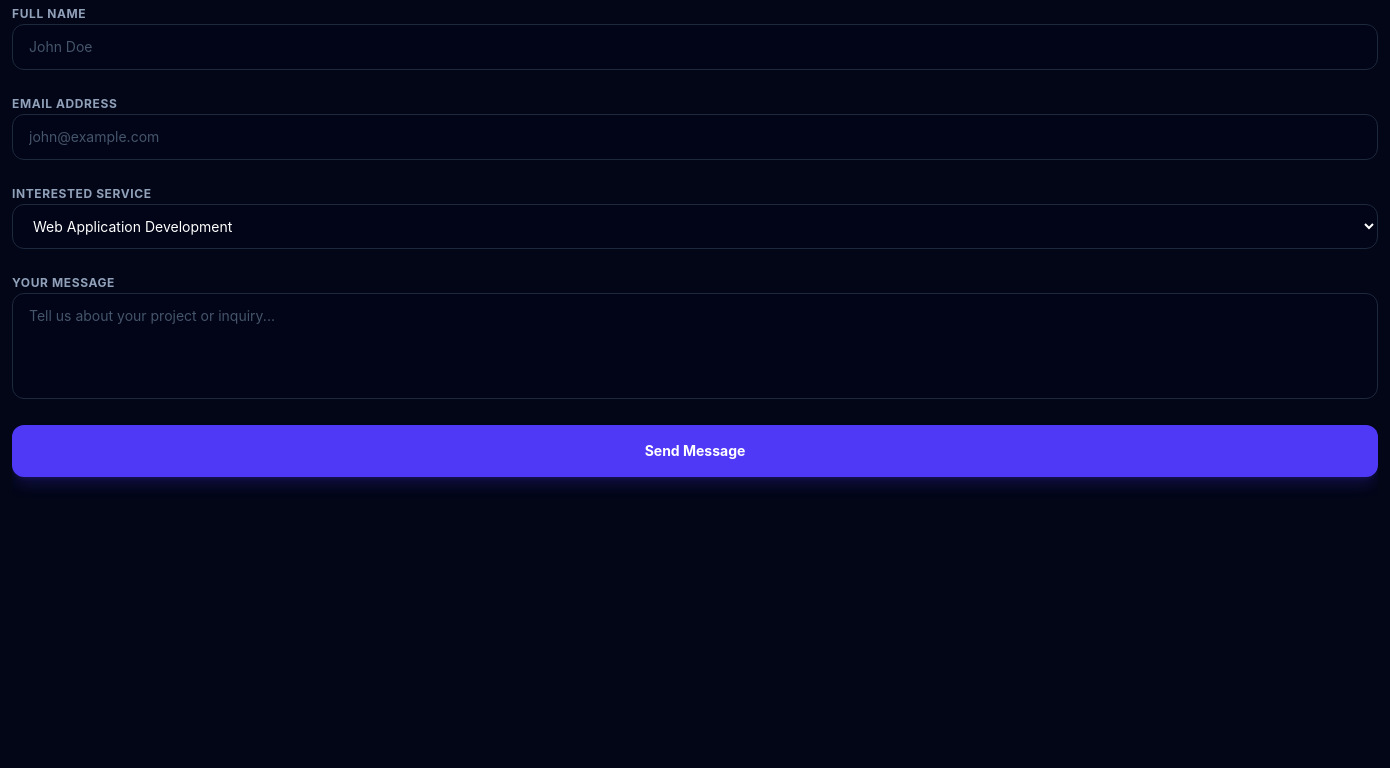
Test: ContactForm submits successfully with Web3Forms API
Type "Niduranga Jayarathna" into the field labelled "Full Name" at point(695, 47), box [12, 24, 1378, 70]
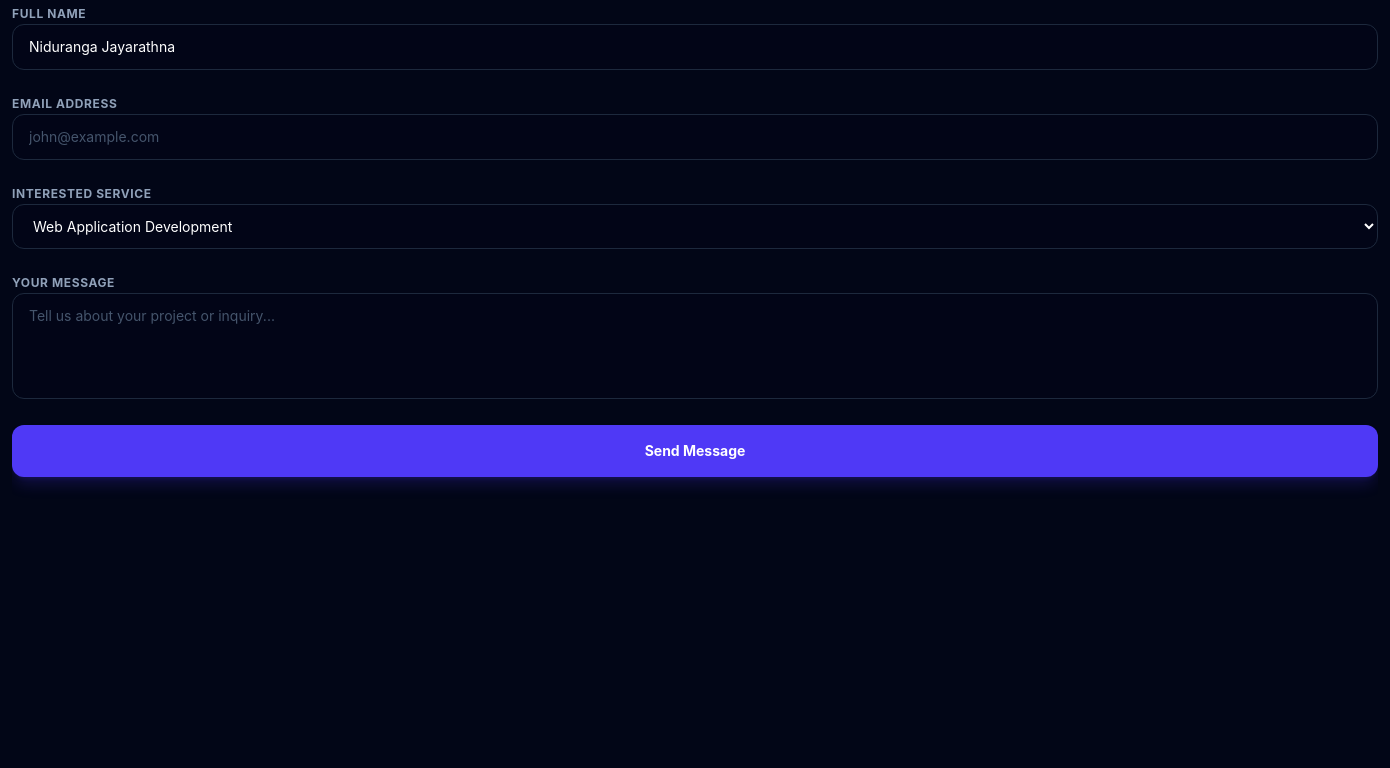
Type "niduranga@example.com" into the field labelled "Email Address" at point(695, 137), box [12, 114, 1378, 160]
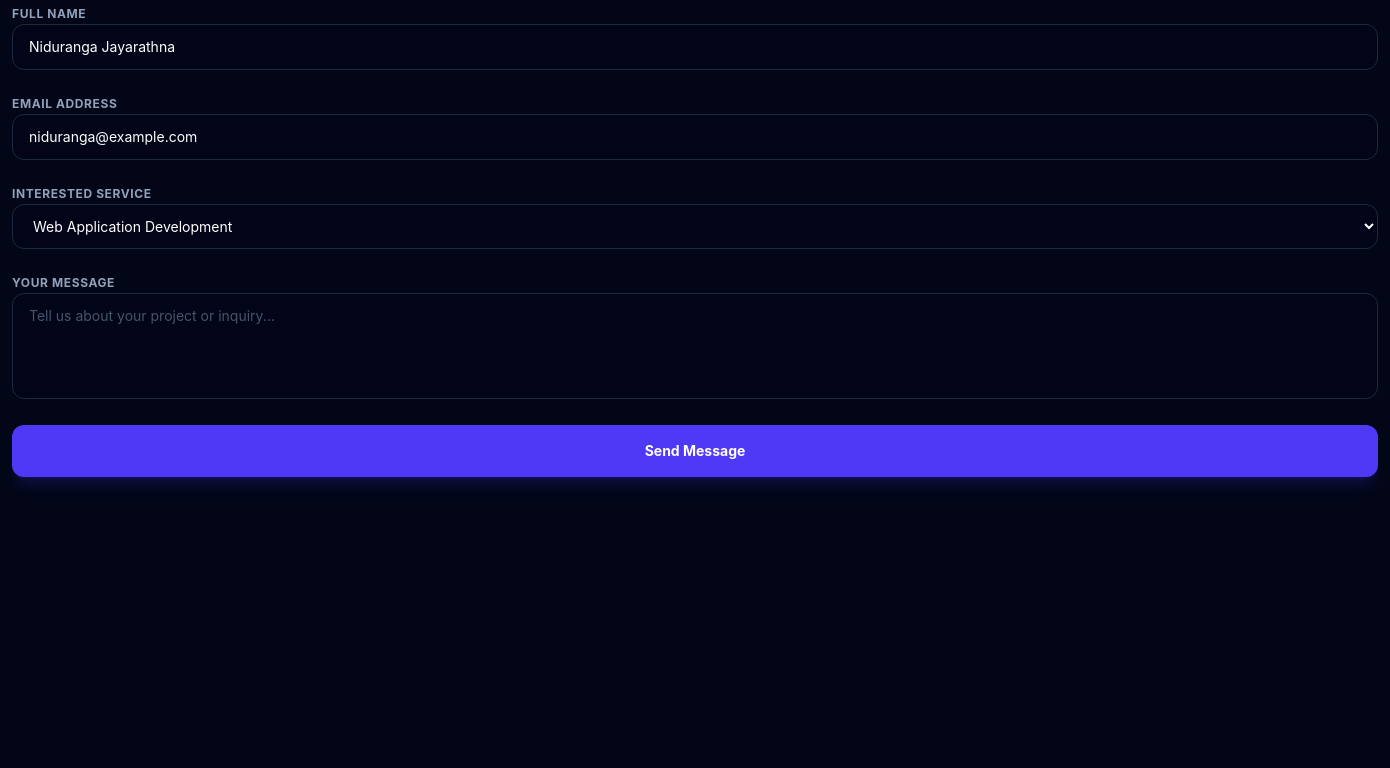
Select "Mobile Application Development" in the dropdown labelled "Interested Service" at point(695, 226), box [12, 204, 1378, 249]
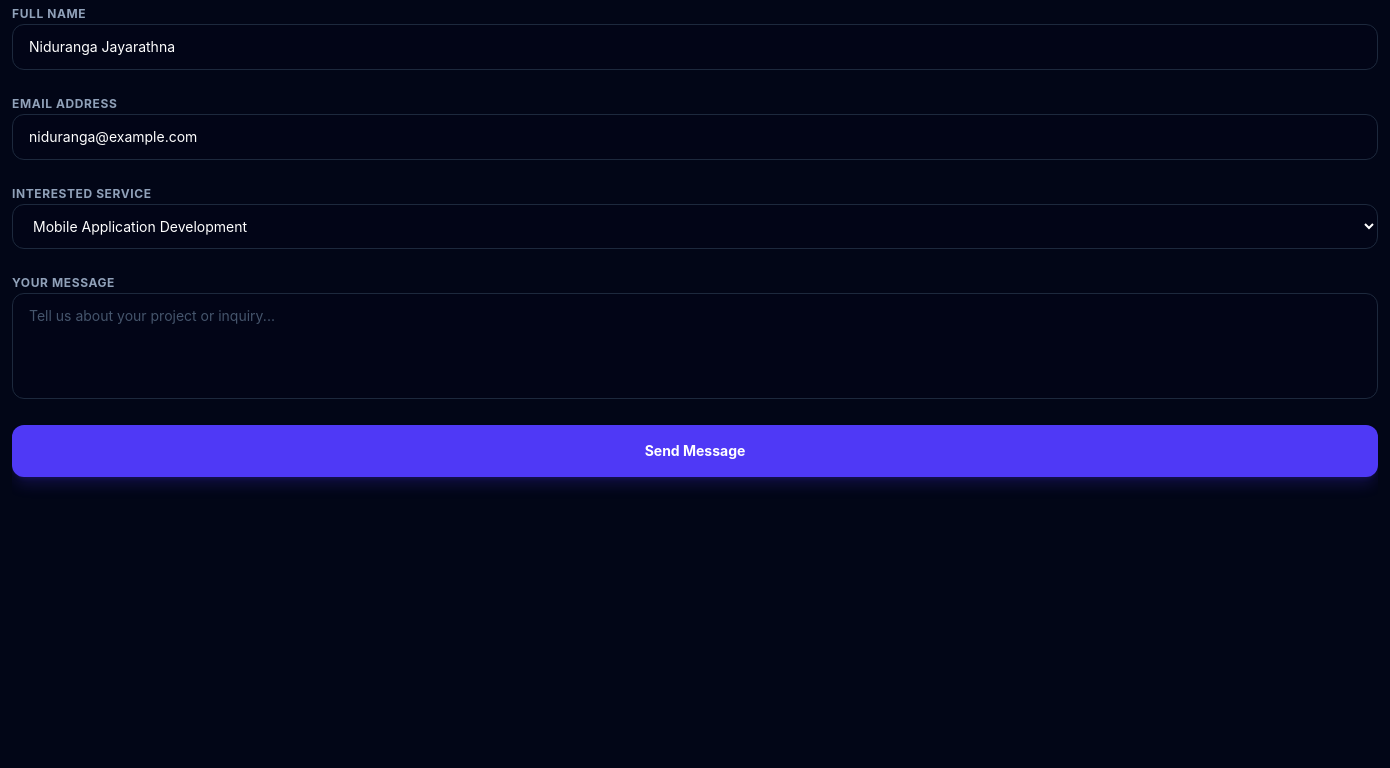
Type "Hello, looking for mobile application development services." into the text box labelled "Your Message" at point(695, 346), box [12, 293, 1378, 399]
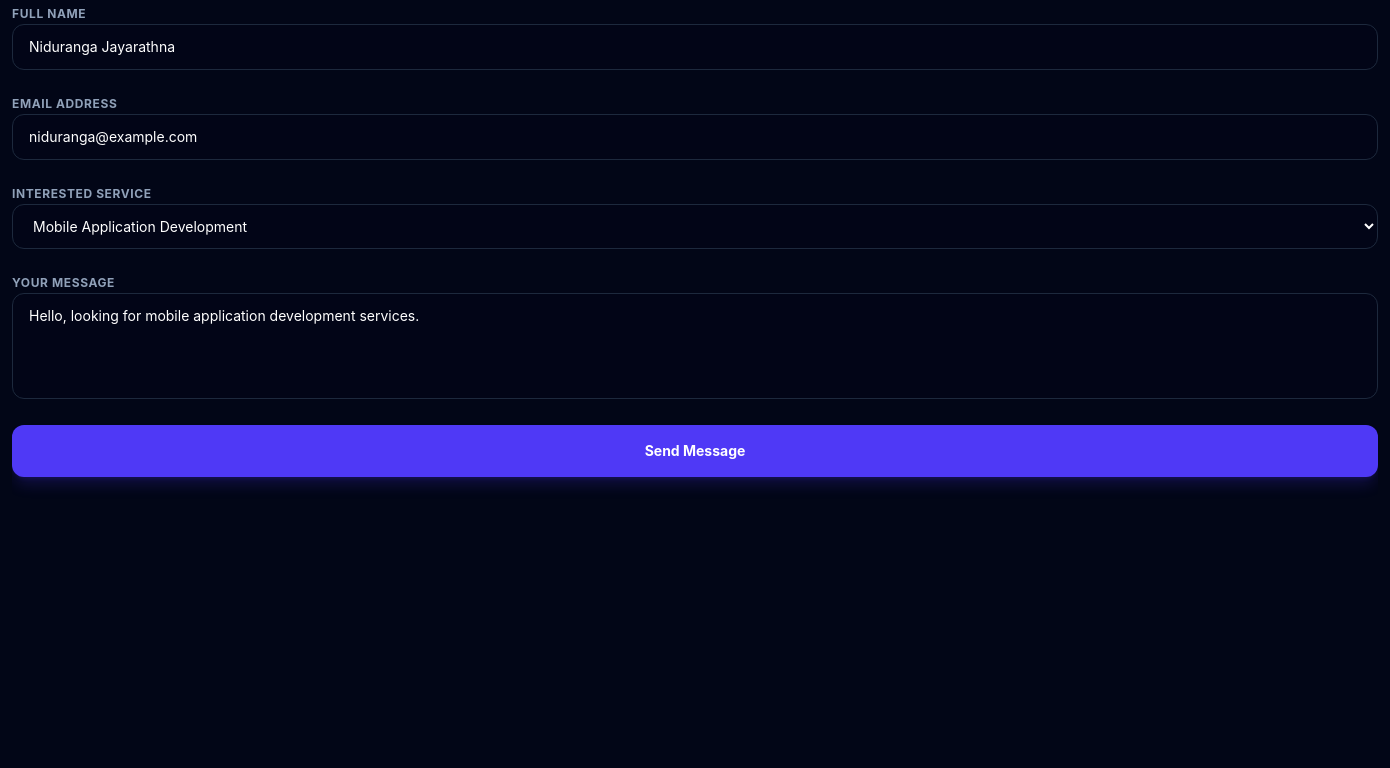
Click the button "Send Message" at point(695, 451), box [12, 425, 1378, 477]
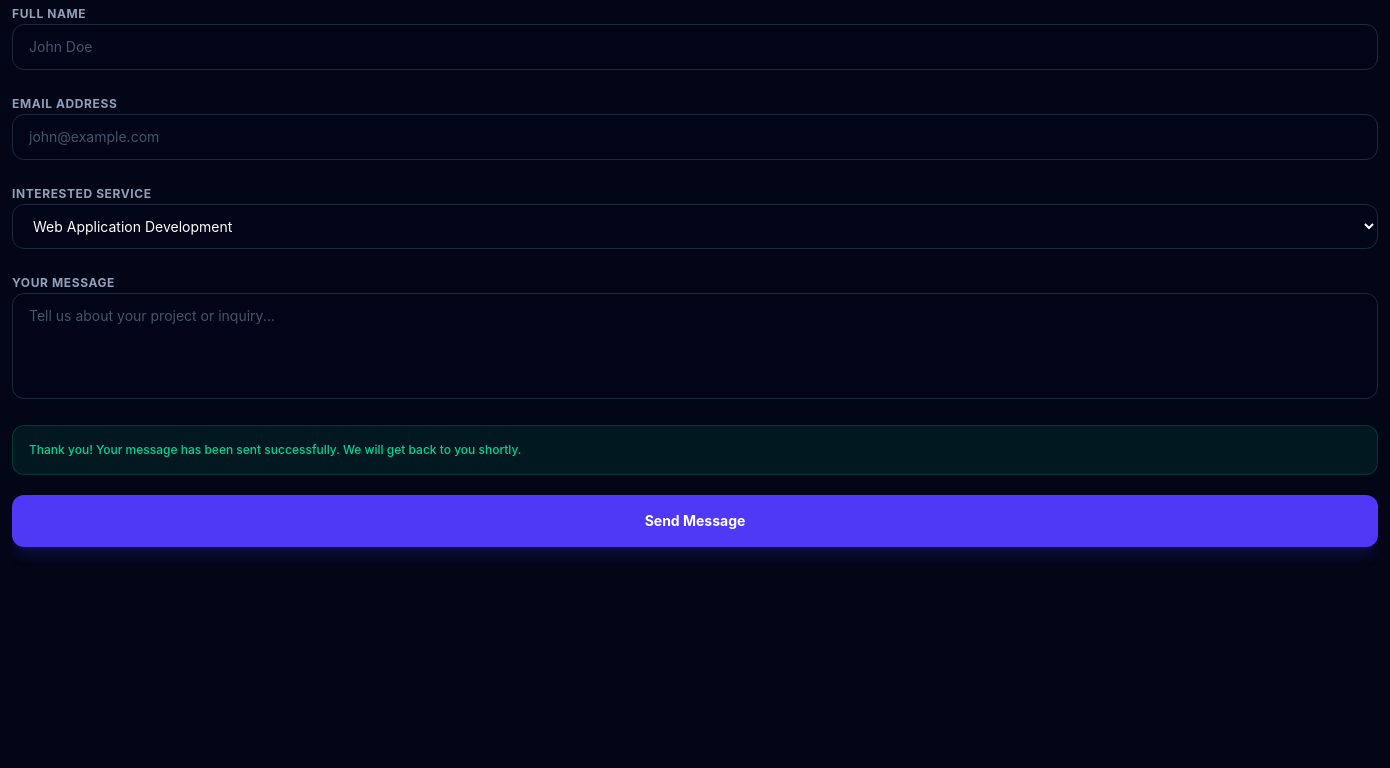
Check: the text "Thank you! Your message has been sent successfully" is shown, box [29, 442, 522, 457]
